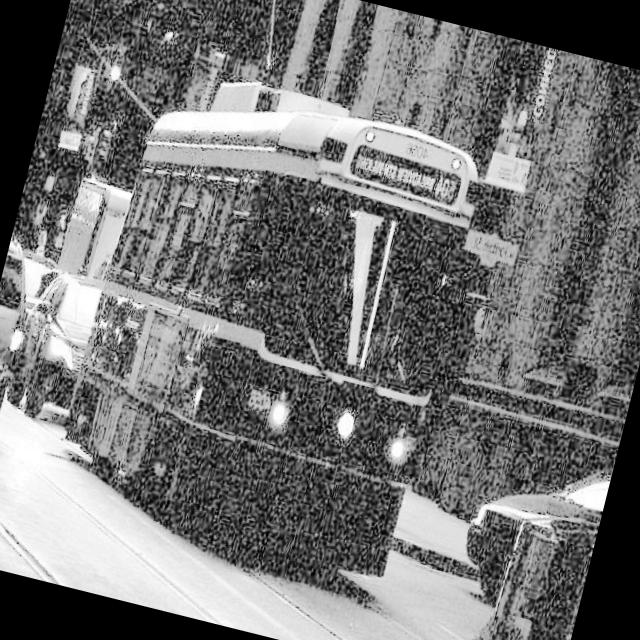Bus: (47, 43, 524, 579)
Car: (452, 414, 618, 617), (1, 248, 118, 434), (0, 216, 54, 470)
